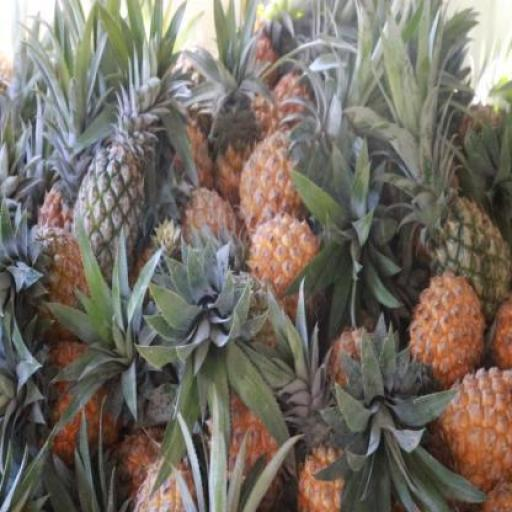Pineapple - v8 v1: (411, 276, 487, 391), (443, 368, 511, 494), (236, 140, 306, 242), (247, 219, 320, 307)
